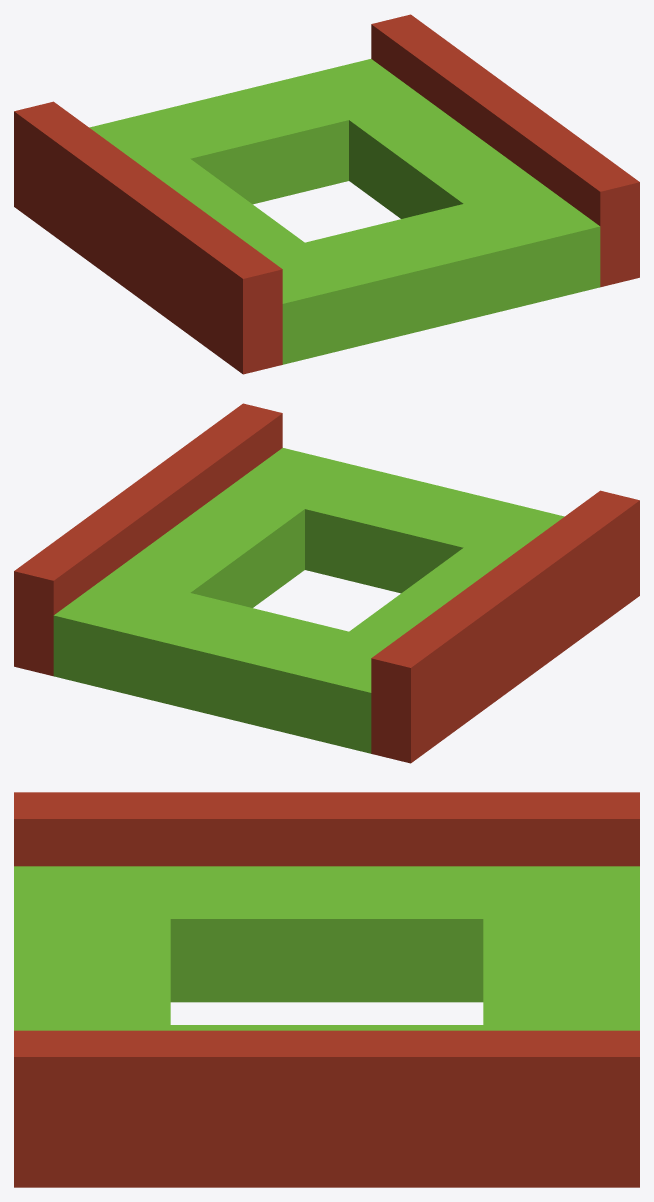
The model's file is Gap.FBX.
3 renders of one model, top to bottom at view 1: azimuth 30°, elevation 25°; view 2: azimuth 150°, elevation 25°; view 3: azimuth 270°, elevation 25°, orthographic. The views are drawn at different scales.
Parts seen in each view (by area): view 1: Gap_01, Walls; view 2: Gap_01, Walls; view 3: Walls, Gap_01.
Part boxes in pixels (box(x1,y1,x2,y2)): Gap_01: box(89, 59, 600, 364); Walls: box(14, 14, 639, 374); Gap_01: box(53, 448, 564, 753); Walls: box(14, 403, 639, 763); Walls: box(14, 792, 639, 1187); Gap_01: box(14, 866, 639, 1030).
Bounding box in the file's own units: 0.9999 × 0.9999 × 0.23.
